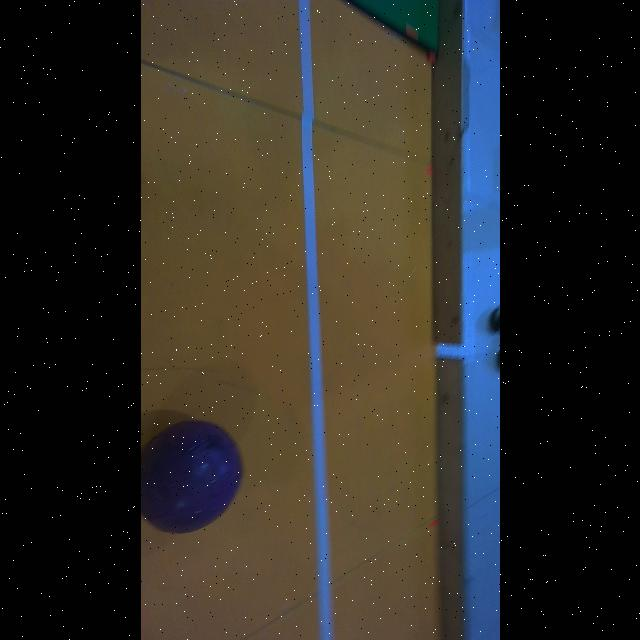P: (140, 420, 241, 533)
